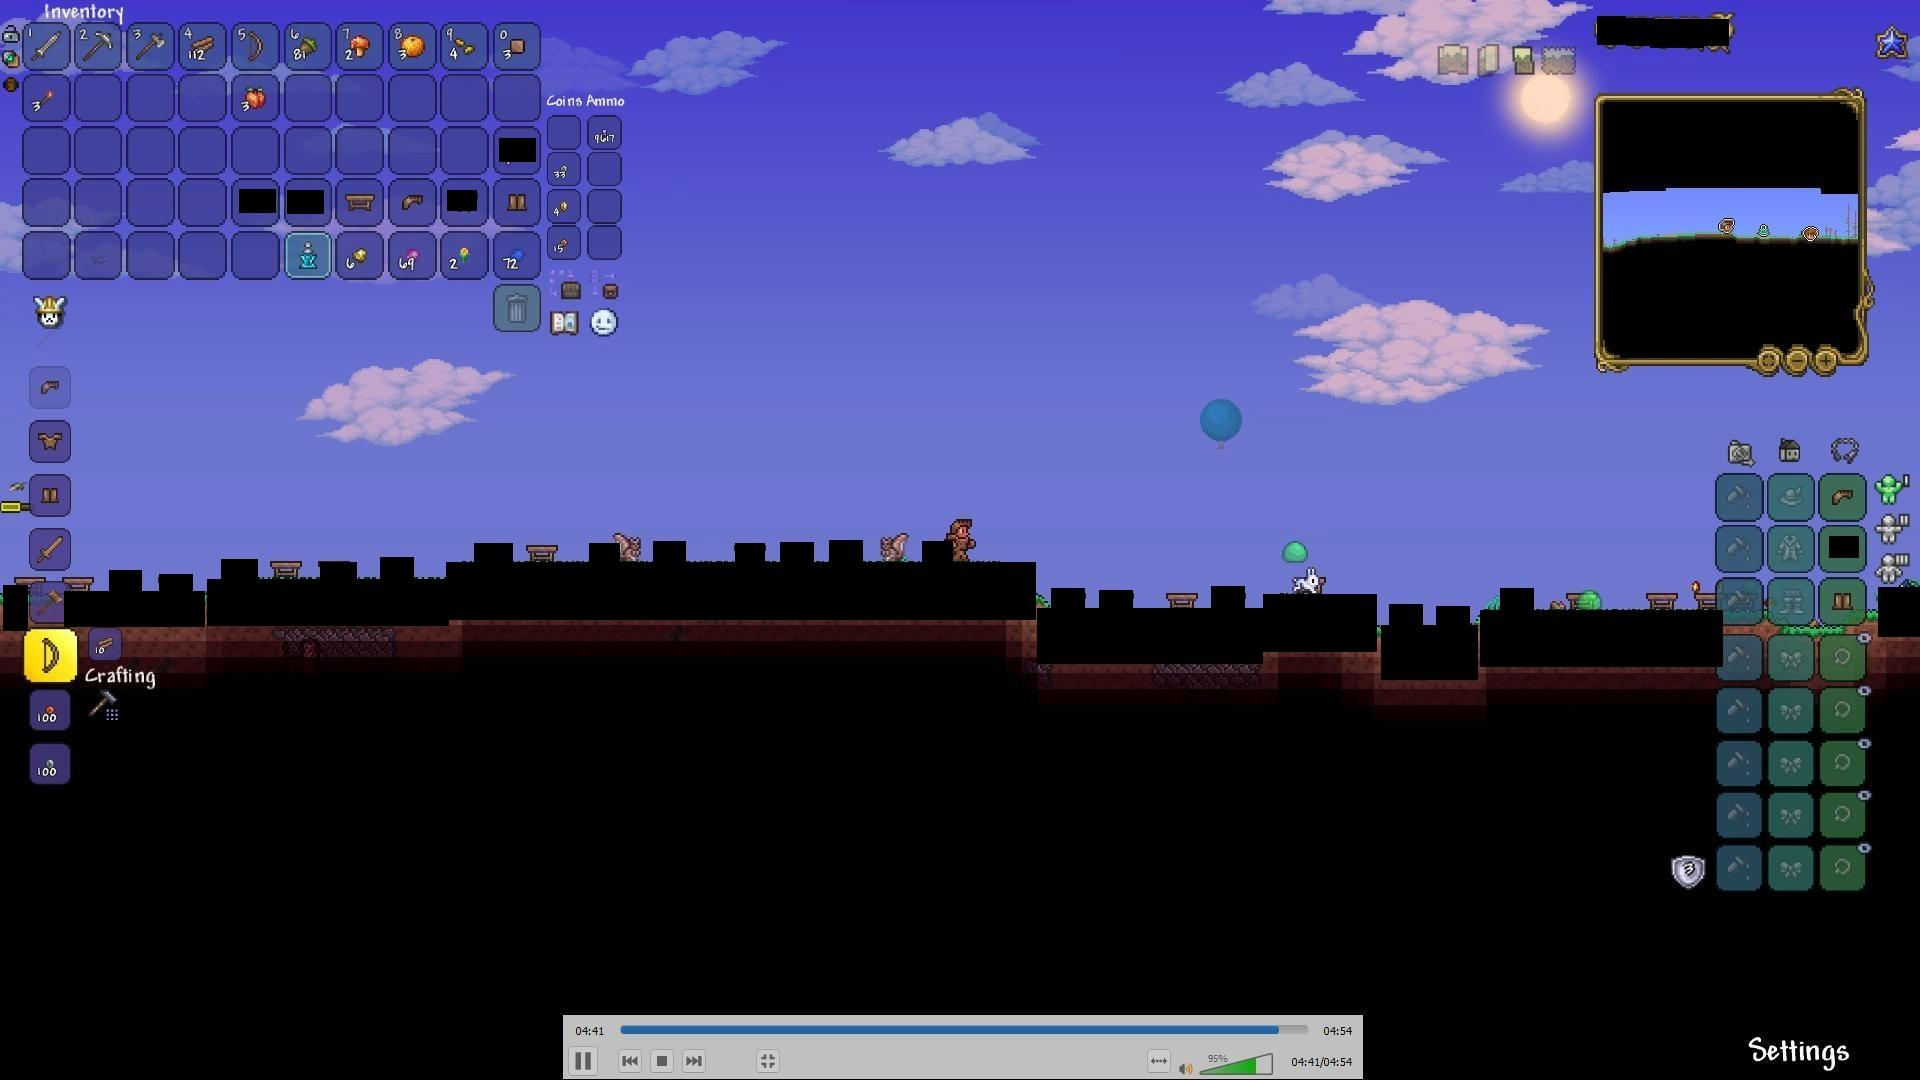breastplate: (36, 430, 65, 451)
helmet: (32, 373, 66, 402), (1828, 484, 1858, 510), (400, 190, 429, 215)
legs: (505, 186, 530, 214), (40, 481, 65, 508), (1833, 588, 1855, 615)
slime: (1575, 582, 1606, 611), (1282, 539, 1309, 566)
wood: (189, 33, 218, 61), (90, 632, 119, 658)
workbench: (525, 541, 559, 567), (342, 191, 378, 214), (1163, 588, 1196, 612), (1693, 587, 1726, 611), (61, 571, 94, 595), (1642, 588, 1675, 612), (270, 562, 307, 582)
